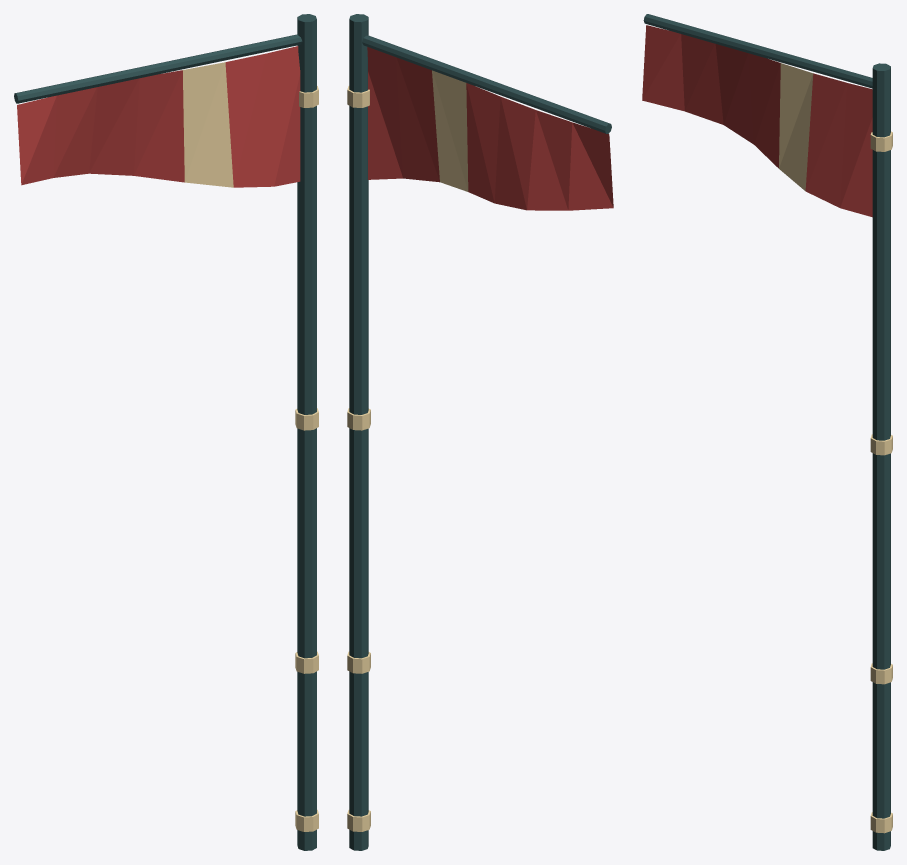
File: PilotPennant.gltf
3 views of the same model, side by side, from view 1: azimuth 30°, elevation 25°; view 2: azimuth 150°, elevation 25°; view 3: azimuth 330°, elevation 25° (orthographic). The views are drawn at different scales.
Visible parts, largest first — view 1: PilotPennant; view 2: PilotPennant; view 3: PilotPennant.
Part boxes in pixels (x1,y1,x2,y2): PilotPennant: (14, 14, 318, 850); PilotPennant: (347, 14, 613, 850); PilotPennant: (642, 14, 892, 850).
Bounding box in the file's own units: 1.49 × 4.19 × 0.2857.
